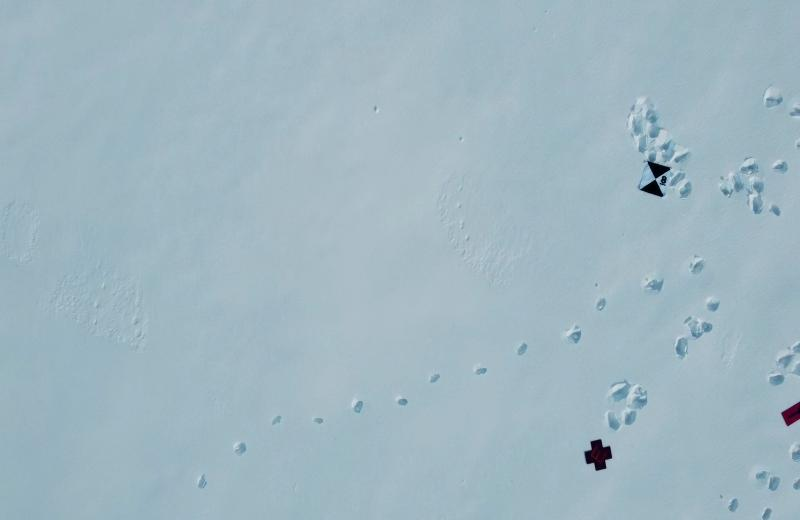Cross: (581, 438, 614, 474)
Rectangle: (779, 398, 800, 428)
